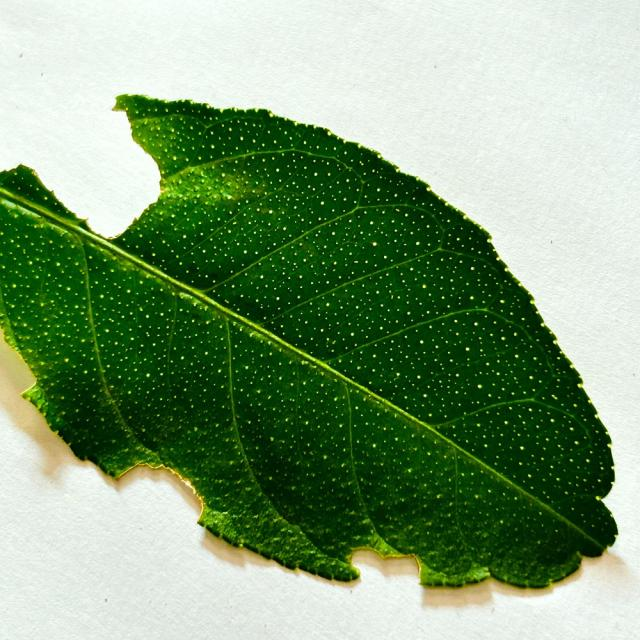Deficiency Leaf: (0, 109, 159, 236)
Lemon: (0, 95, 617, 587)
